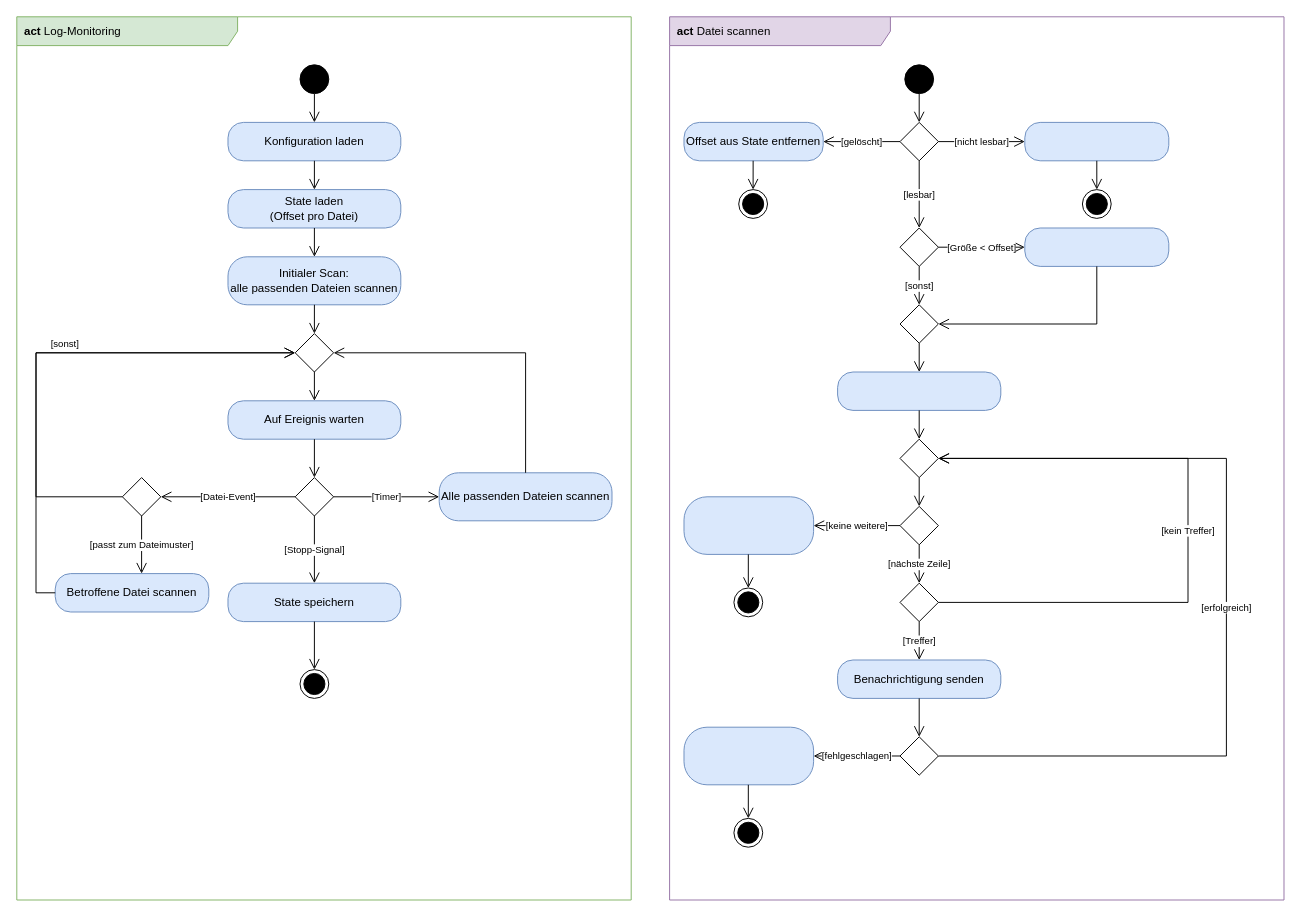
Image size: 1301x917. Some labels were removed from this diagram. Here are the shapes that lost their labels. From the top down, the box of each, then its label:
(1024, 121, 1169, 161): Warnung loggen
(1024, 227, 1169, 266): Offset auf 0 setzen
(837, 371, 1001, 410): Datei ab Offset lesen
(683, 496, 814, 554): Offset hinter letzte vollständige Zeile setzen und speichern
(683, 726, 814, 785): Fehler loggen, Offset vor dieser Zeile speichern
